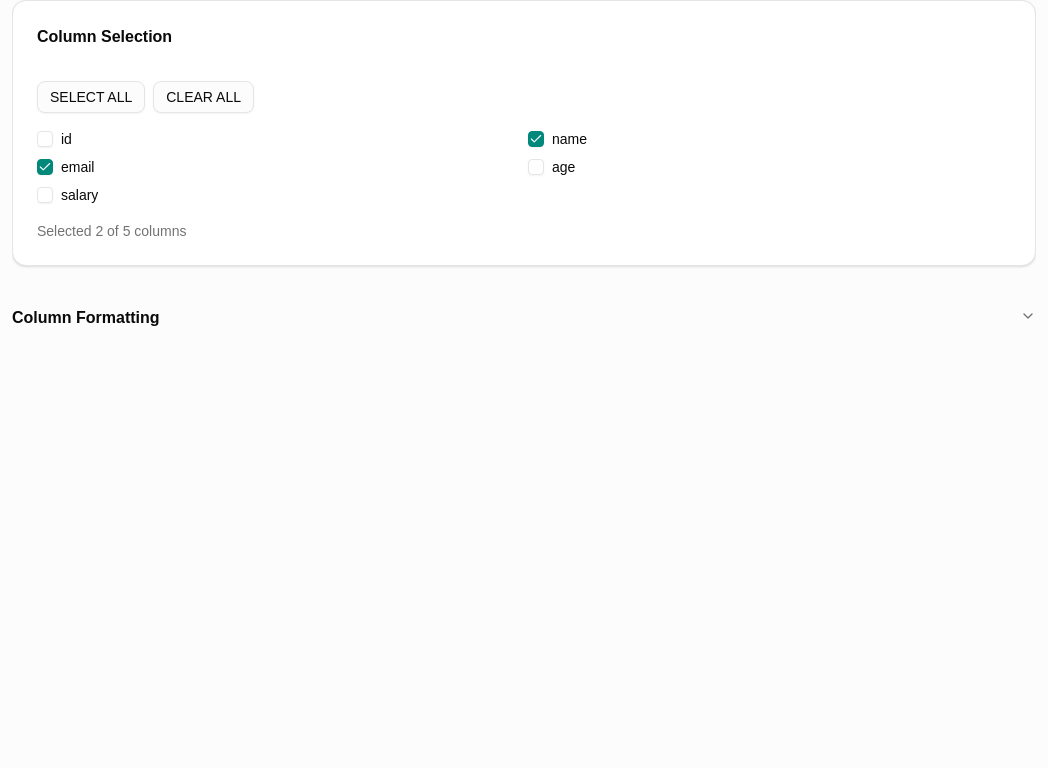
TableConfiguration › Column Formatting Section › should show and expand formatting section when columns are selected
Click the button "Column Formatting": (86, 318) [12, 290, 1036, 346]
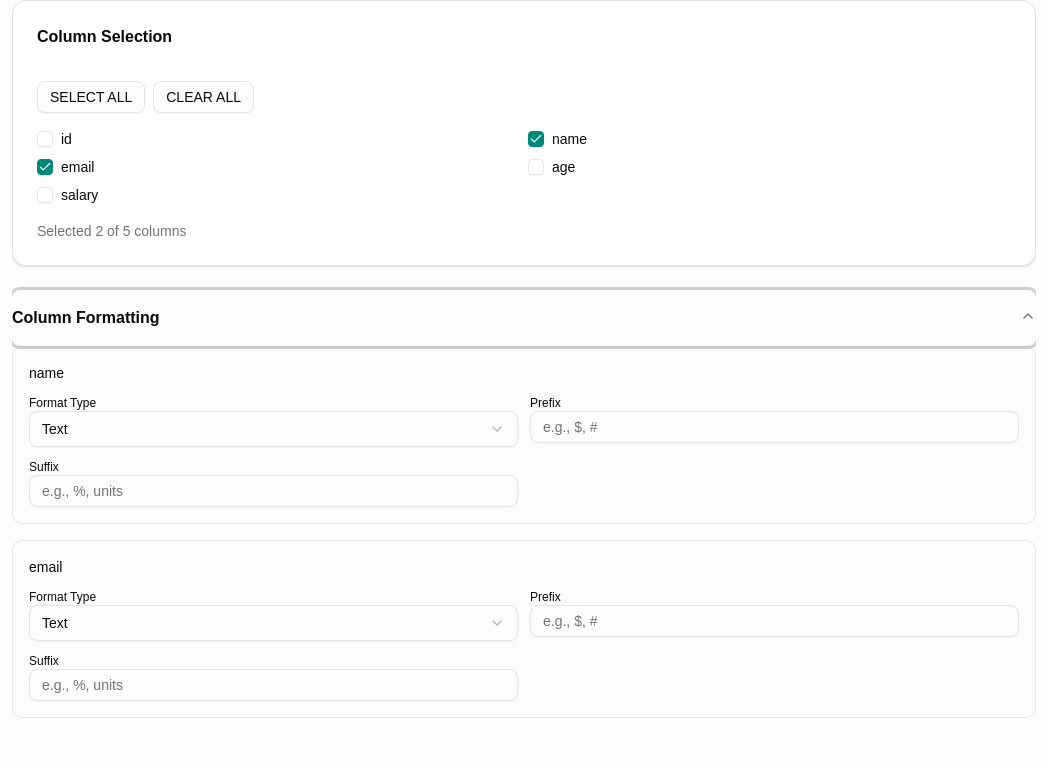
Result: the 1st text "Format Type" is shown at [29, 396, 96, 410]
